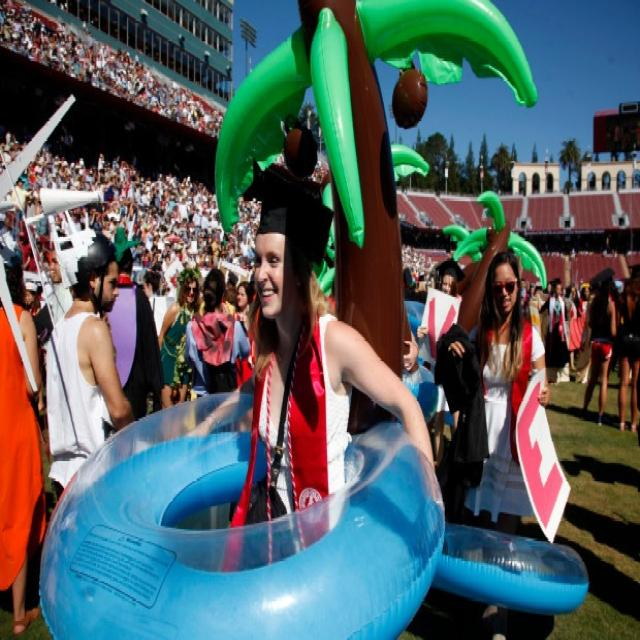body: (0, 0, 640, 412), (181, 171, 445, 566), (447, 246, 551, 639), (46, 232, 136, 510), (520, 452, 640, 622), (0, 247, 49, 638), (184, 265, 253, 432), (107, 229, 164, 426), (157, 265, 202, 409), (581, 268, 617, 428), (537, 277, 573, 386), (619, 277, 639, 434)
